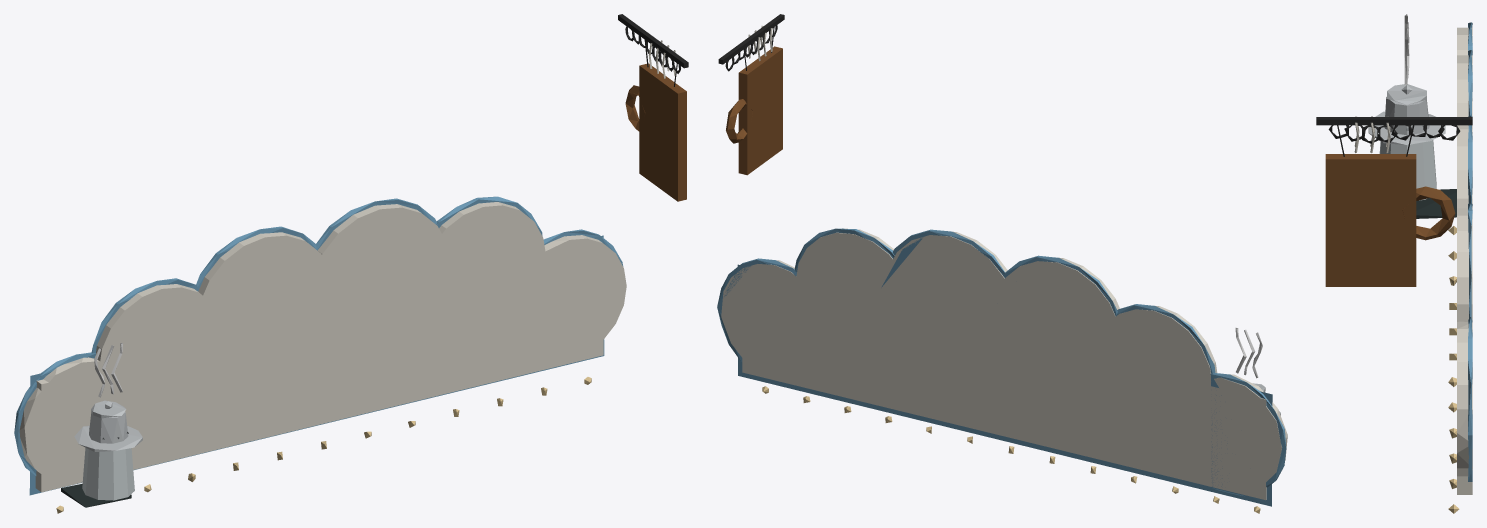
File: bang_cafe_may_60.glb
The picture shows the model from 3 angles, left to right: view 1: azimuth 30°, elevation 25°; view 2: azimuth 150°, elevation 25°; view 3: azimuth 270°, elevation 25°; orthographic projection. The views are drawn at different scales.
Parts seen in each view (by area): view 1: bang_cafe_may_60; view 2: bang_cafe_may_60; view 3: bang_cafe_may_60.
Part boxes in pixels (left/top/right/bottom): bang_cafe_may_60: left=14, top=14, right=688, bottom=513; bang_cafe_may_60: left=717, top=14, right=1287, bottom=513; bang_cafe_may_60: left=1316, top=14, right=1472, bottom=513.
Size of the model in its own units: 5.34 by 2.95 by 1.
